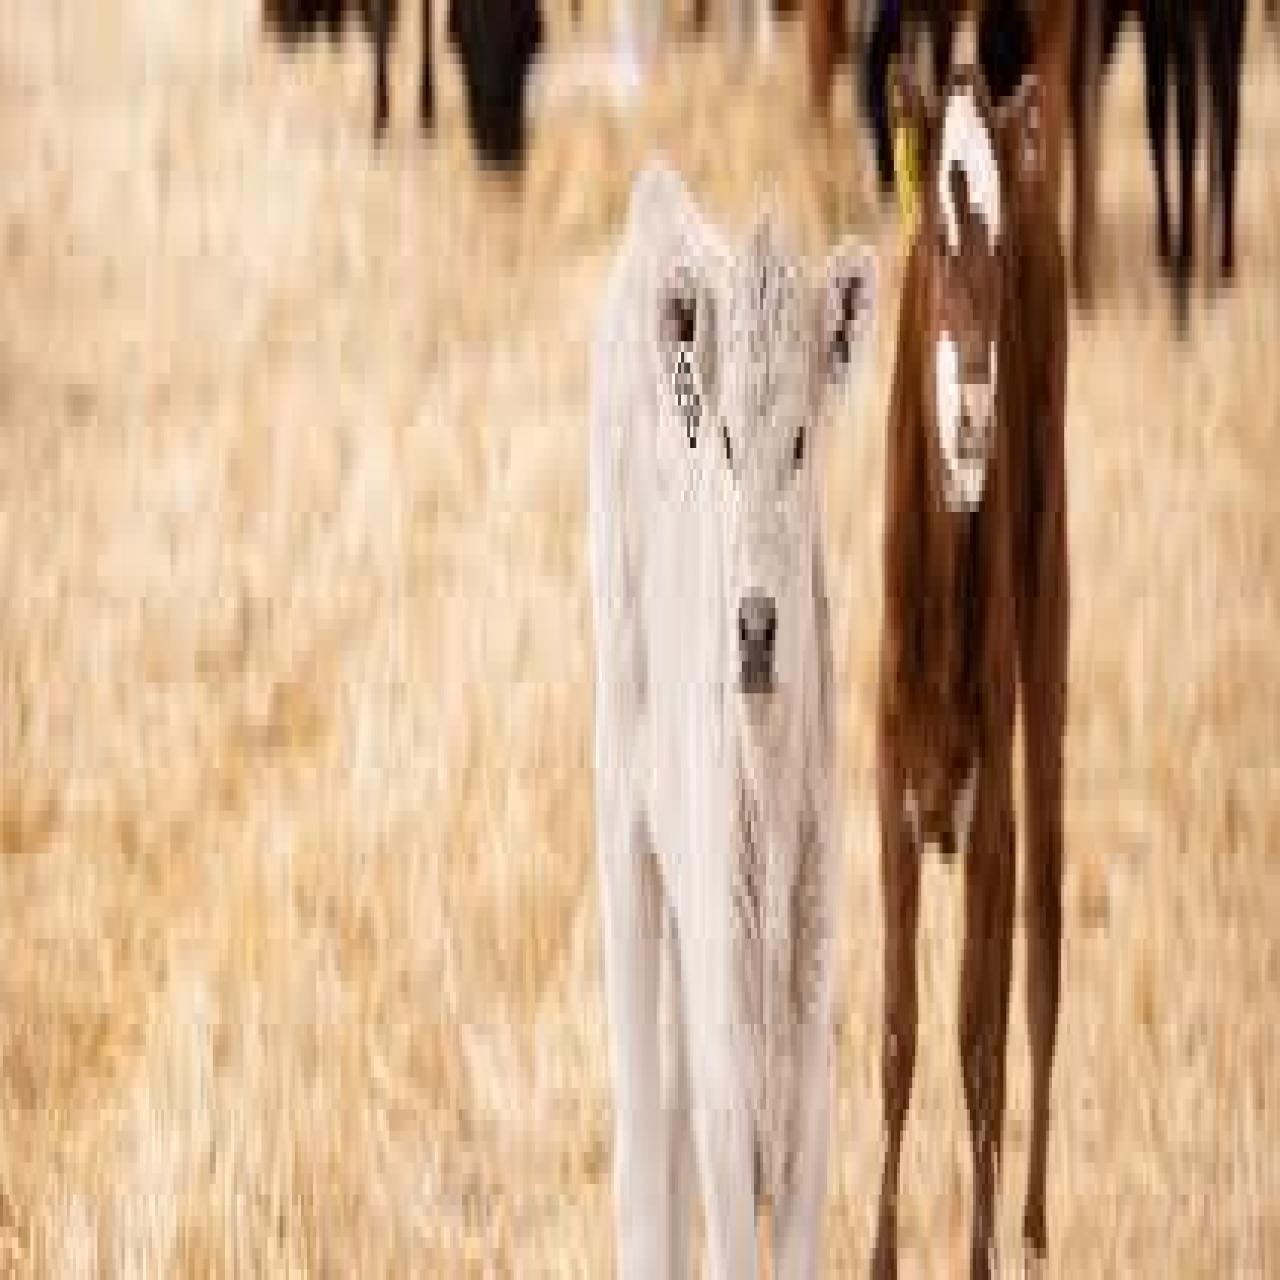cow: (592, 150, 878, 1269), (878, 11, 1080, 1280)
